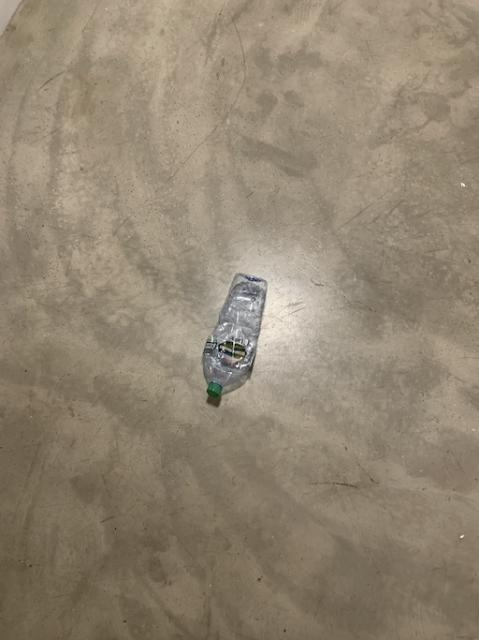plastic: (202, 273, 266, 396)
